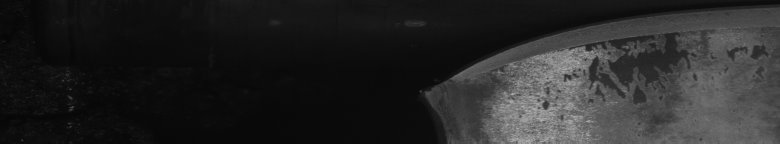kb: (452, 0, 774, 144)
